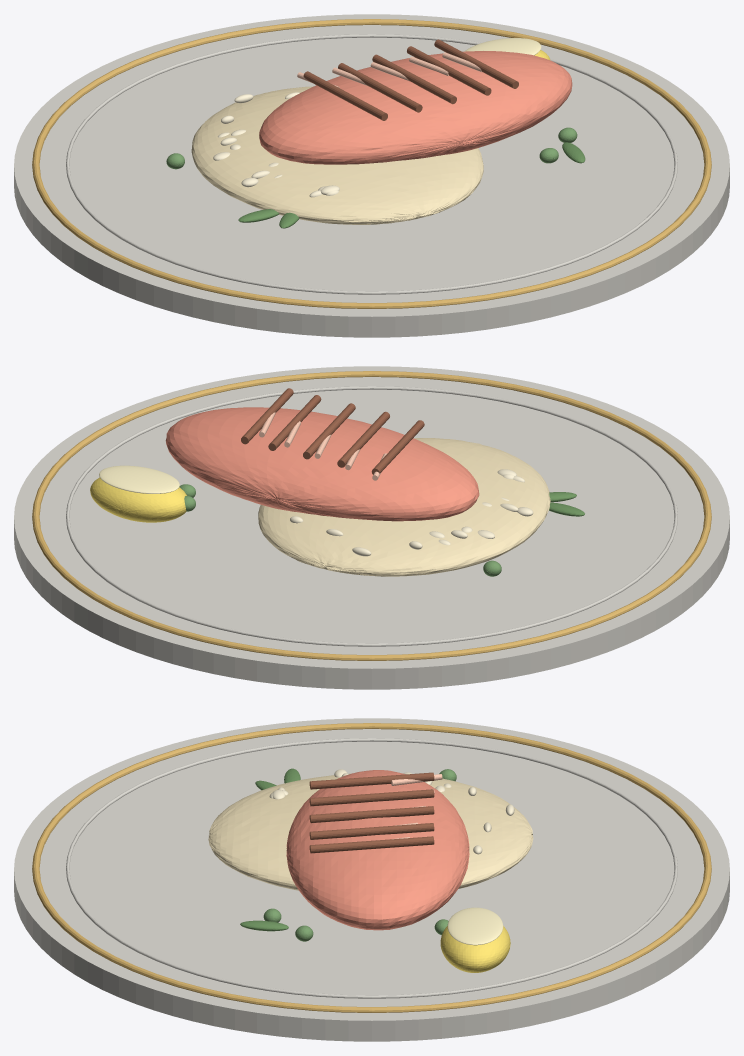
File: pan_seared_salmon.glb
3 views of the same model, one above another, from view 1: azimuth 30°, elevation 25°; view 2: azimuth 150°, elevation 25°; view 3: azimuth 270°, elevation 25° (orthographic).
Visible parts, largest first — view 1: Porcelain plate, Seared salmon fillet, Saffron risotto bed, Fine gold plate rim, Inner plate groove, Lemon flesh, Caramelized sear line 1, Caramelized sear line 2, Caramelized sear line 4, Caramelized sear line 5, Caramelized sear line 3; view 2: Porcelain plate, Seared salmon fillet, Saffron risotto bed, Fine gold plate rim, Inner plate groove, Golden lemon wedge, Lemon flesh, Caramelized sear line 1, Caramelized sear line 2, Caramelized sear line 5, Caramelized sear line 3, Caramelized sear line 4; view 3: Porcelain plate, Seared salmon fillet, Saffron risotto bed, Fine gold plate rim, Inner plate groove, Golden lemon wedge, Lemon flesh, Caramelized sear line 5, Caramelized sear line 2, Caramelized sear line 4, Caramelized sear line 3, Caramelized sear line 1.
Part boxes in pixels (x1,y1,x2,y2): Porcelain plate: (14, 14, 729, 337); Seared salmon fillet: (259, 51, 572, 164); Saffron risotto bed: (191, 86, 483, 224); Fine gold plate rim: (32, 19, 711, 308); Inner plate groove: (66, 34, 677, 294); Lemon flesh: (464, 38, 541, 55); Caramelized sear line 1: (303, 71, 387, 120); Caramelized sear line 2: (338, 63, 422, 112); Caramelized sear line 4: (407, 46, 491, 95); Caramelized sear line 5: (434, 39, 518, 88); Caramelized sear line 3: (372, 54, 456, 104); Porcelain plate: (14, 366, 729, 689); Seared salmon fillet: (165, 407, 479, 521); Saffron risotto bed: (258, 438, 550, 576); Fine gold plate rim: (32, 371, 711, 660); Inner plate groove: (66, 386, 677, 646); Golden lemon wedge: (90, 477, 186, 522); Lemon flesh: (99, 465, 179, 493); Caramelized sear line 1: (371, 420, 424, 474); Caramelized sear line 2: (337, 411, 389, 467); Caramelized sear line 5: (241, 388, 293, 444); Caramelized sear line 3: (303, 403, 355, 459); Caramelized sear line 4: (268, 395, 321, 450); Porcelain plate: (14, 718, 729, 1041); Seared salmon fillet: (286, 770, 469, 930); Saffron risotto bed: (208, 773, 533, 890); Fine gold plate rim: (32, 723, 711, 1012); Inner plate groove: (66, 738, 677, 998); Golden lemon wedge: (440, 926, 510, 972); Lemon flesh: (447, 907, 503, 945); Caramelized sear line 5: (309, 836, 434, 853); Caramelized sear line 2: (309, 789, 434, 806); Caramelized sear line 4: (309, 823, 434, 839); Caramelized sear line 3: (309, 806, 434, 823); Caramelized sear line 1: (309, 772, 434, 789).
Size of the model in its own units: 18 by 2.79 by 18.
